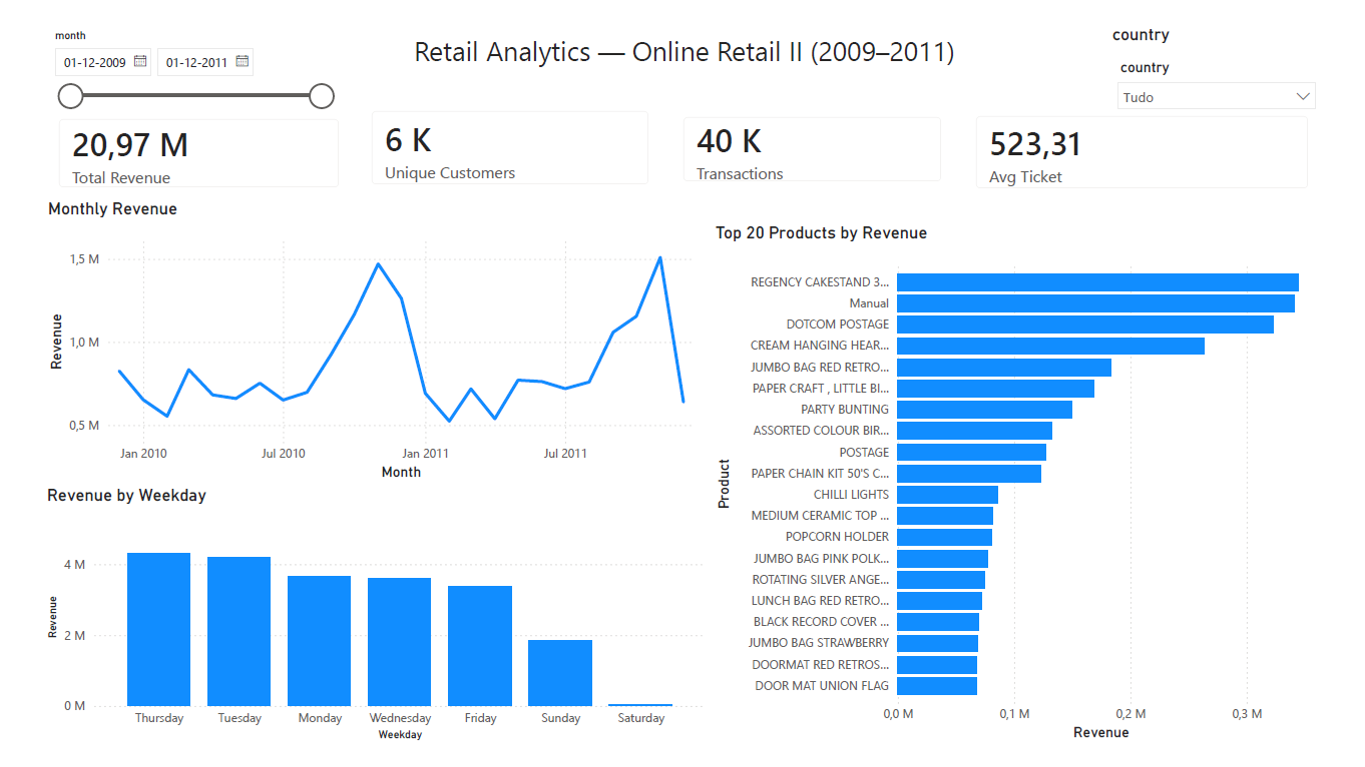

The dashboard page shown, as its layout file describes it:
{"tool":"powerbi","page":{"name":"Página 1","canvas":[1280,720],"ordinal":0},"visuals":[{"type":"cardVisual","fields":{"Data":["Sum(KPIs.total_revenue)"]},"box":[0,78.4,313.5,102.3],"z":0},{"type":"cardVisual","fields":{"Data":["Sum(KPIs.total_transactions)"]},"box":[623.4,76.1,291.2,98],"z":1},{"type":"cardVisual","fields":{"Data":["Sum(KPIs.unique_customers)"]},"box":[312.2,70.4,310.8,107.6],"z":2},{"type":"cardVisual","fields":{"Data":["Sum(KPIs.avg_ticket)"]},"box":[914.6,74.6,365.9,106.8],"z":3},{"type":"lineChart","title":"Monthly Revenue","fields":{"Y":["Sum(MonthlyRevenue.revenue)"],"Category":["MonthlyRevenue.month"]},"box":[1.5,174.1,665.9,285.4],"z":4},{"type":"clusteredBarChart","title":"Top 20 Products by Revenue","fields":{"Category":["TopProducts.description"],"Y":["Sum(TopProducts.revenue)"]},"box":[667.3,197.6,613.2,522.4],"z":5},{"type":"clusteredColumnChart","title":"Revenue by Weekday","fields":{"Category":["Weekday.weekday"],"Y":["Sum(Weekday.revenue)"]},"box":[0,459.5,667.3,260.5],"z":6},{"type":"slicer","title":"country","fields":{"Values":["MonthlyRevenue.country"]},"box":[1062.7,0,217.9,90.3],"z":7},{"type":"slicer","fields":{"Values":["MonthlyRevenue.month"]},"box":[0,0,300,90.7],"z":8},{"type":"textbox","box":[365.9,2.9,567.8,52.7],"z":9}]}

Visuals, with their boxes in screenshot pixels (x1, y1, x2, y2), scaled from the page's 1280x720 canvas onto the 1365x767 screenshot:
cardVisual - Sum(KPIs.total_revenue): [left=0, top=84, right=334, bottom=192]
cardVisual - Sum(KPIs.total_transactions): [left=665, top=81, right=975, bottom=185]
cardVisual - Sum(KPIs.unique_customers): [left=333, top=75, right=664, bottom=190]
cardVisual - Sum(KPIs.avg_ticket): [left=975, top=79, right=1364, bottom=193]
"Monthly Revenue" lineChart: [left=2, top=185, right=712, bottom=489]
"Top 20 Products by Revenue" clusteredBarChart: [left=712, top=210, right=1364, bottom=766]
"Revenue by Weekday" clusteredColumnChart: [left=0, top=489, right=712, bottom=766]
"country" slicer: [left=1133, top=0, right=1364, bottom=96]
slicer - MonthlyRevenue.month: [left=0, top=0, right=320, bottom=97]
textbox: [left=390, top=3, right=996, bottom=59]
